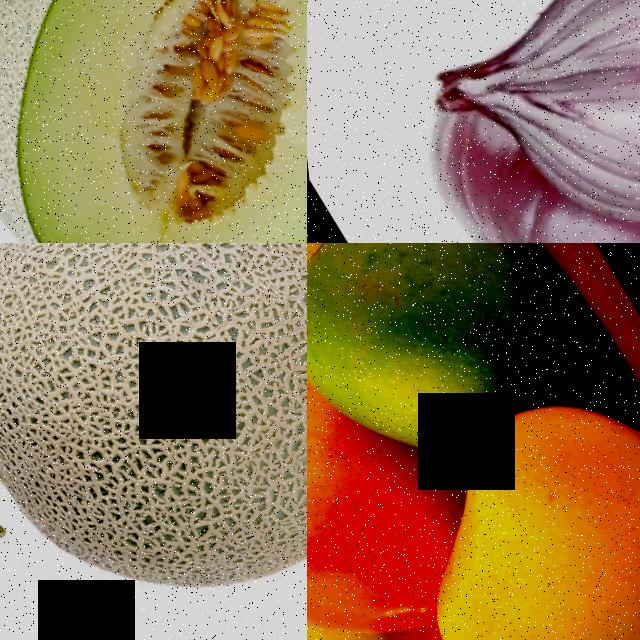mango: (307, 243, 595, 485), (415, 342, 640, 640), (307, 334, 430, 640)
melon: (0, 243, 307, 640), (0, 0, 307, 243)
onion: (456, 0, 640, 243), (366, 90, 611, 243)
